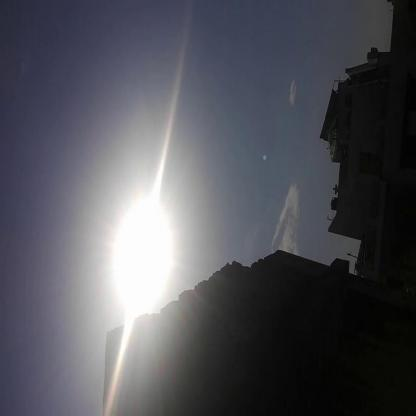other: (101, 147, 170, 331)
